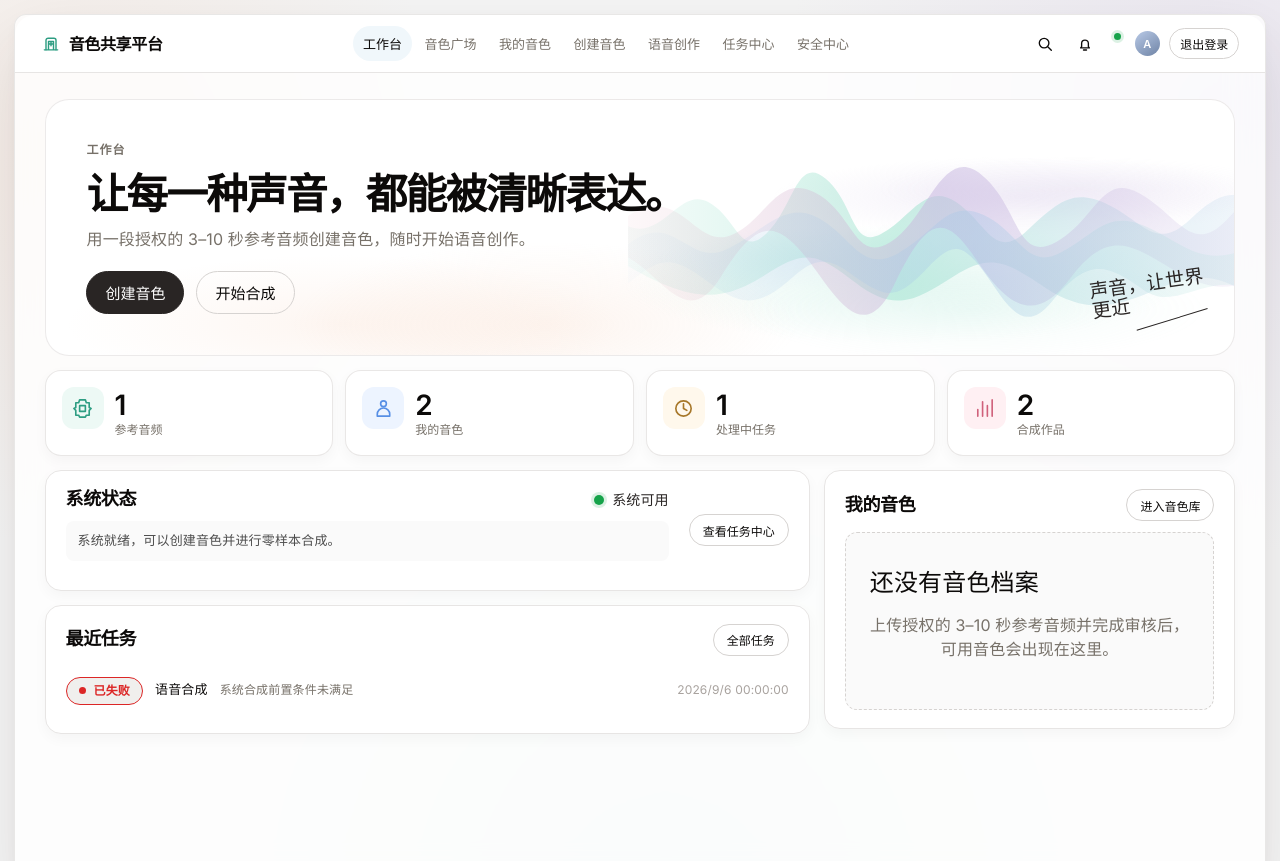
Scenario: UserVisibleCopy 全局用户可见文案契约 › keeps every user workspace page free of implementation wording
Expected: the heading "让每一种声音，都能被清晰表达。" is shown, [86, 171, 776, 217]
Click the button "我的音色" at (525, 44), box [489, 26, 561, 61]
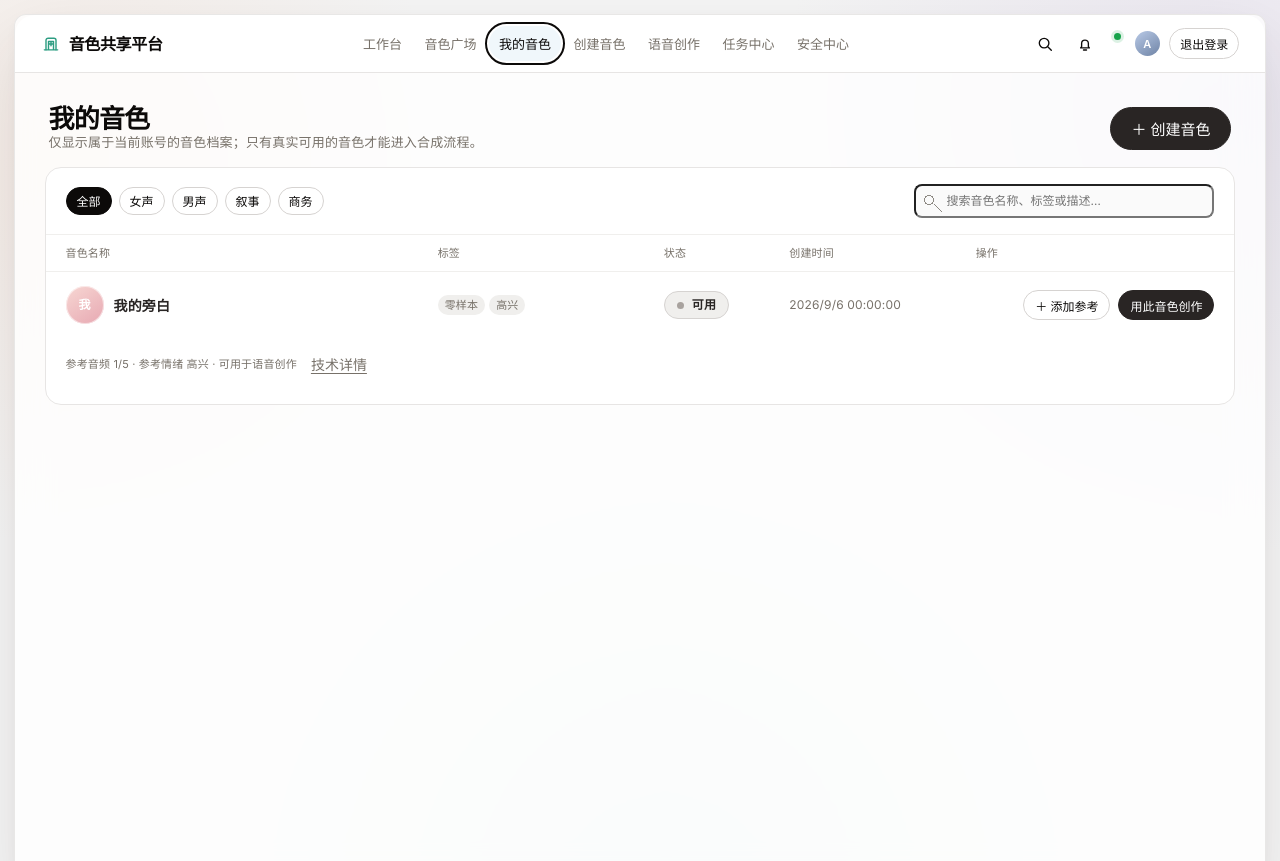
Expected: the text "我的旁白" is shown, [114, 294, 170, 316]
Click the button "创建音色" at (599, 44), box [563, 26, 636, 61]
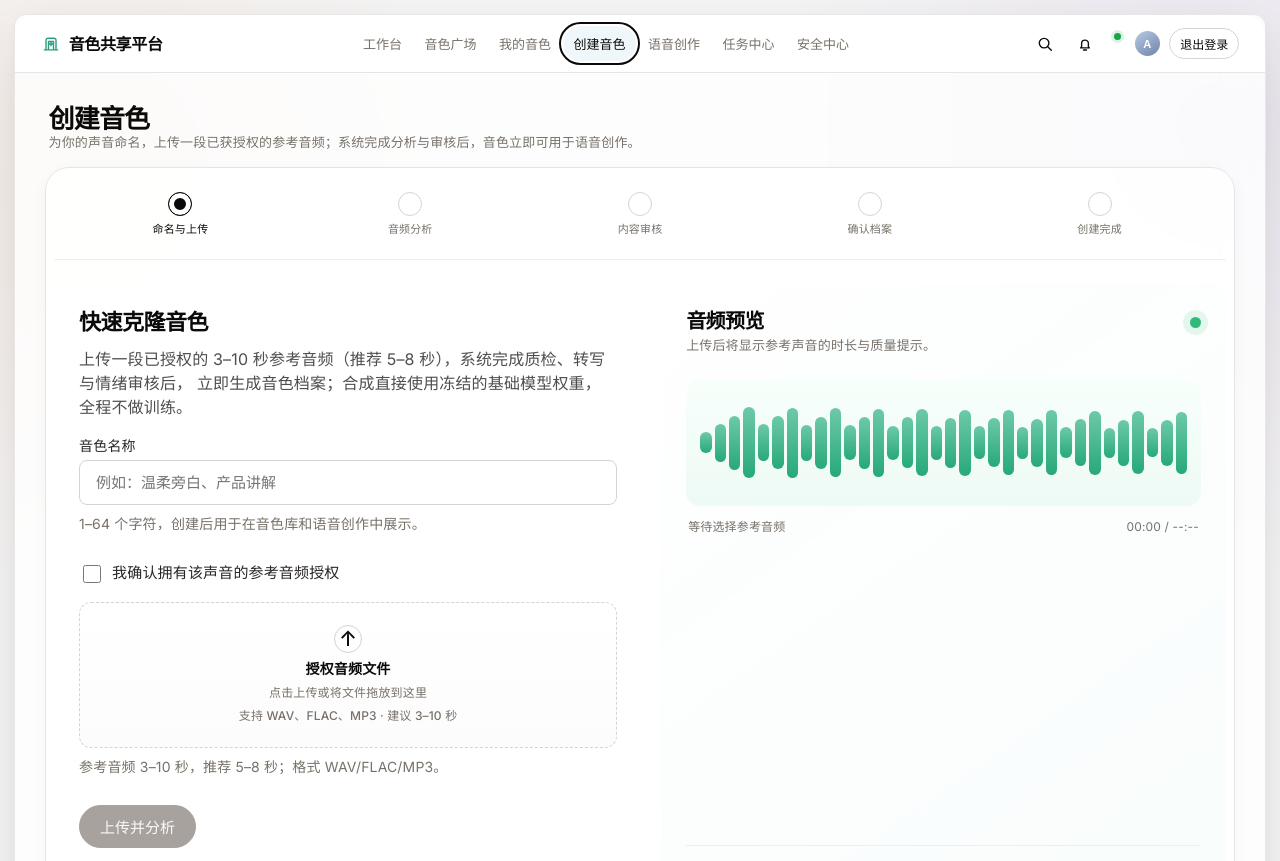
Expected: the heading "快速克隆音色" is shown, [79, 310, 208, 334]
Click the button "语音创作" at (674, 44), box [638, 26, 710, 61]
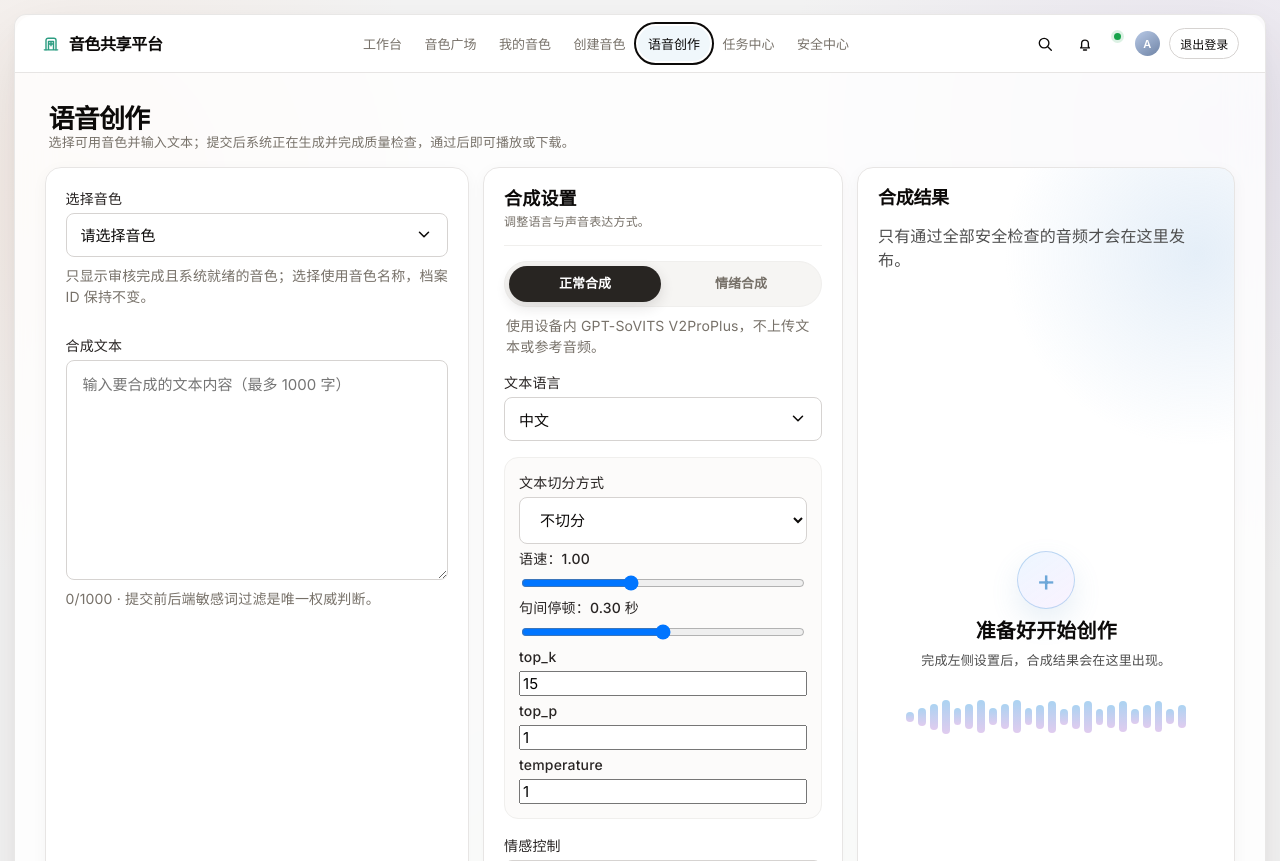
Click the button "任务中心" at (748, 44), box [712, 26, 785, 61]
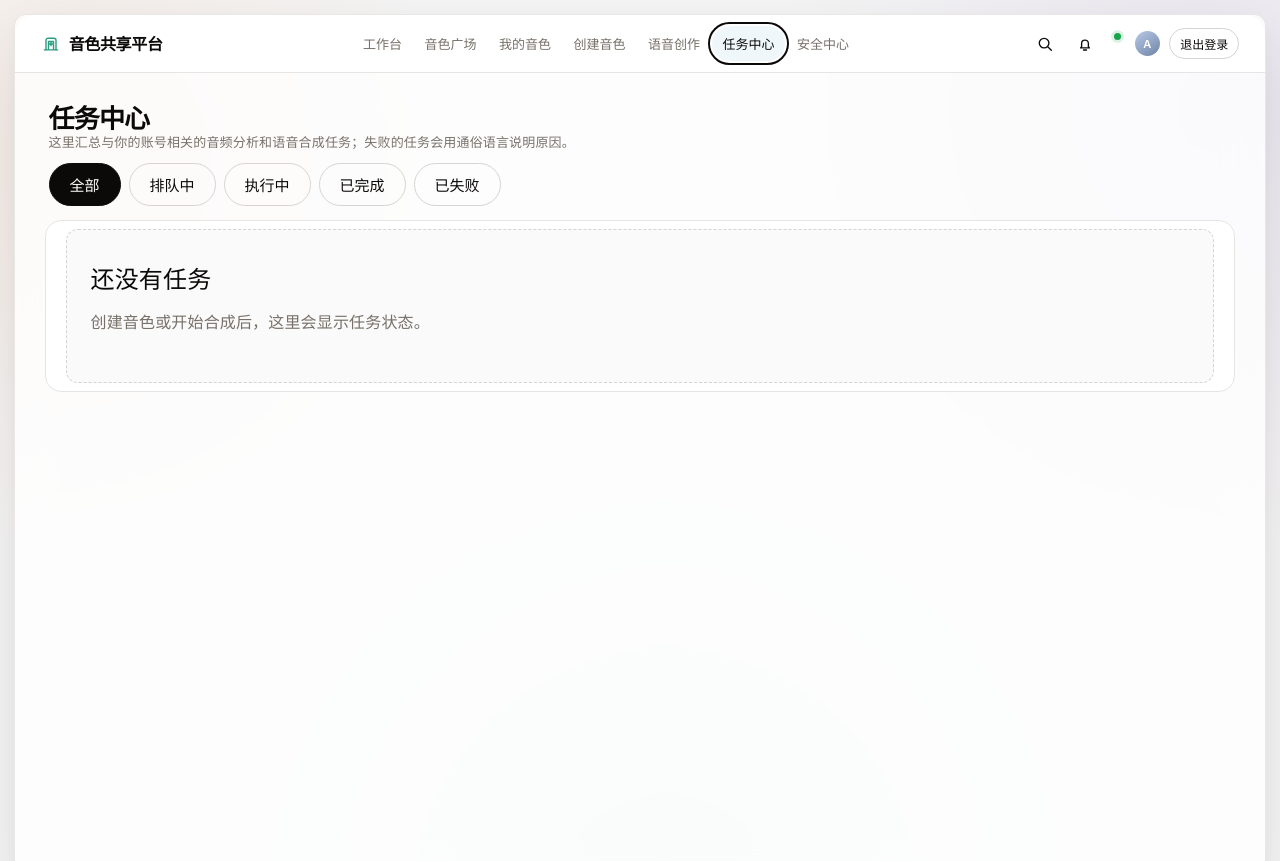
Expected: the text "这里汇总与你的账号相关的音频分析和语音合成任务；失败的任务会用通俗语言说明原因。" is shown, [48, 134, 575, 150]
Click the button "安全中心" at (823, 44), box [787, 26, 859, 61]
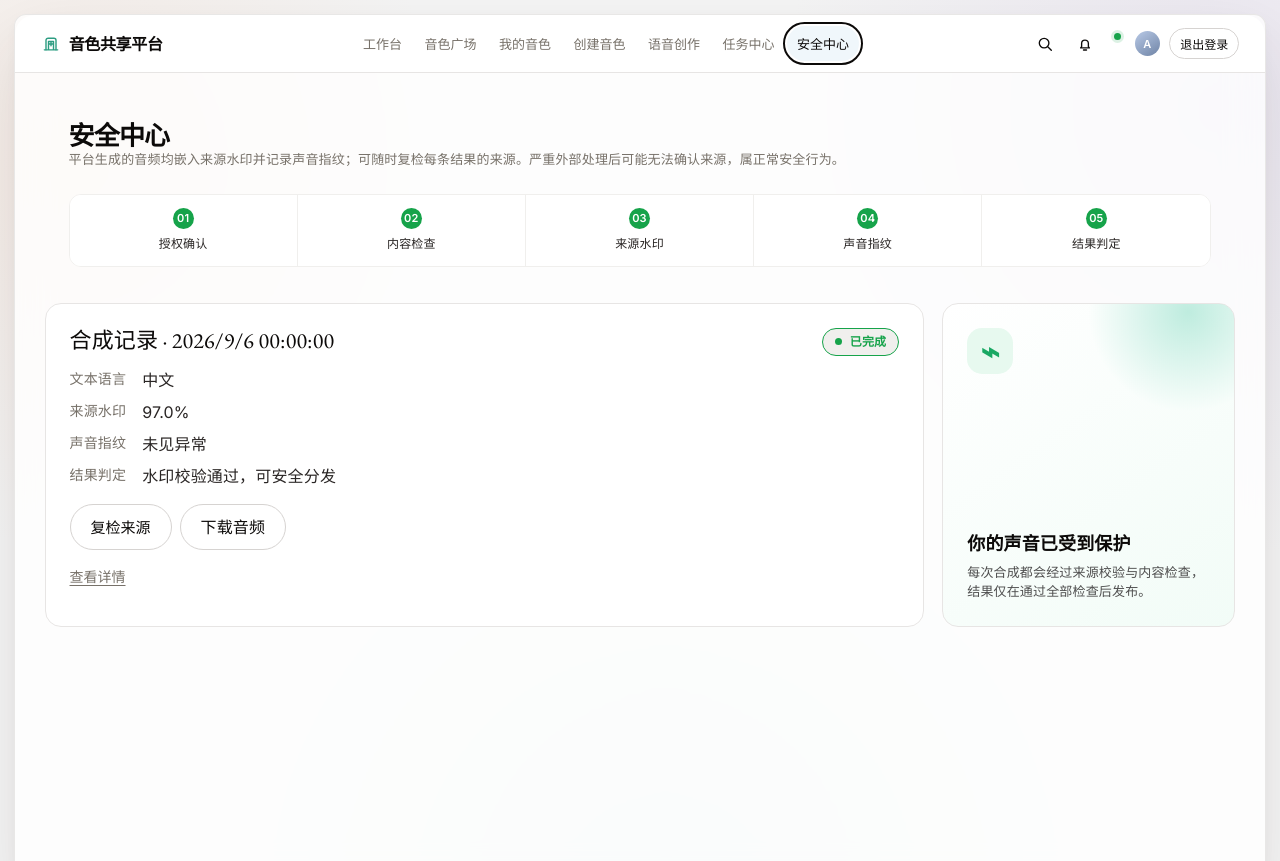
Expected: the text "平台生成的音频均嵌入来源水印并记录声音指纹；可随时复检每条结果的来源。严重外部处理后可能无法确认来源，属正常安全行为。" is shown, [68, 151, 845, 167]
